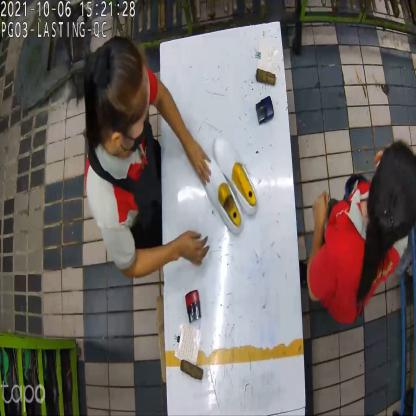shoes: (200, 134, 260, 234)
stamp: (184, 292, 204, 326), (256, 95, 274, 128)
